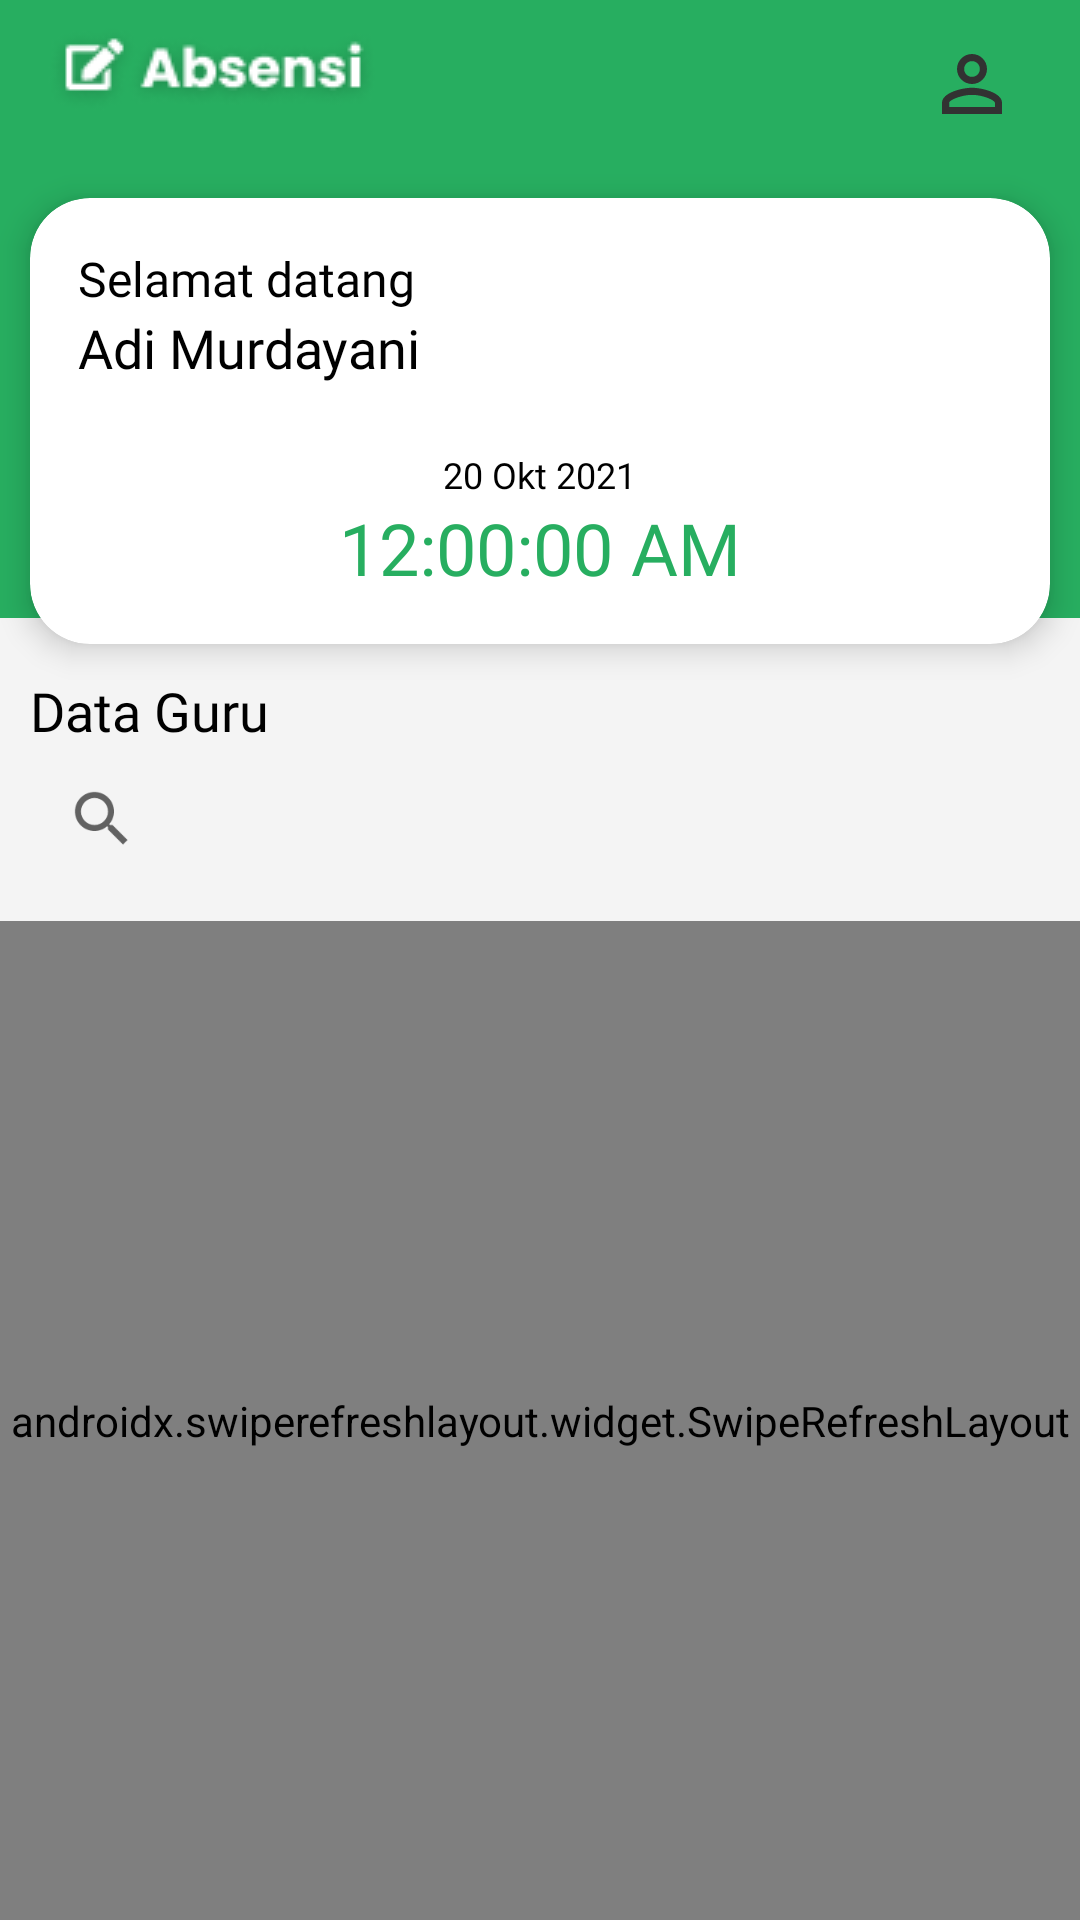

Screen size 1080px x 1920px. Icon name, then its box in pixels as (x1, y1, x2, y2):
profile: (942, 54, 1002, 114)
